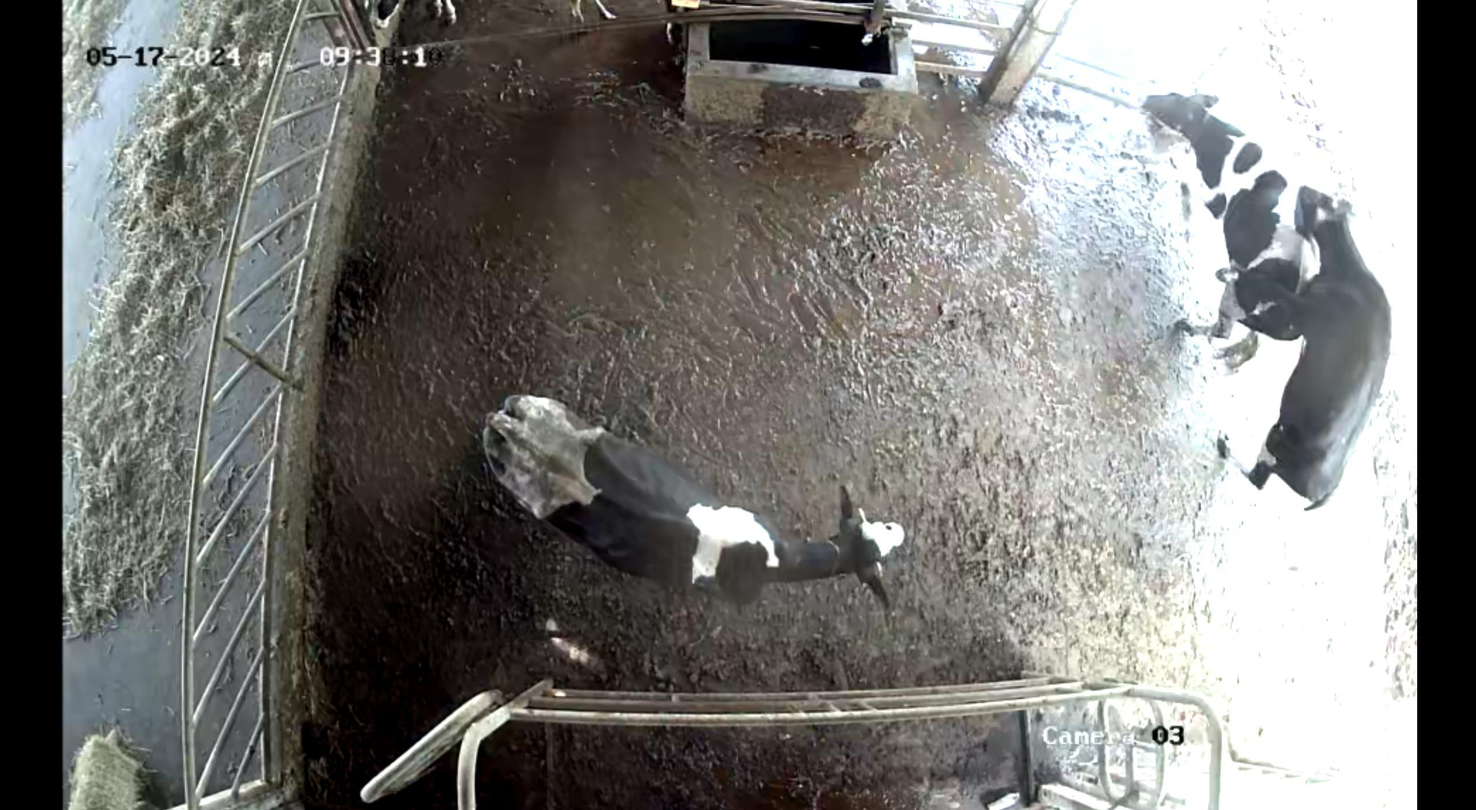ride: (1189, 166, 1410, 526)
stand: (458, 372, 927, 618), (1144, 82, 1306, 345)
